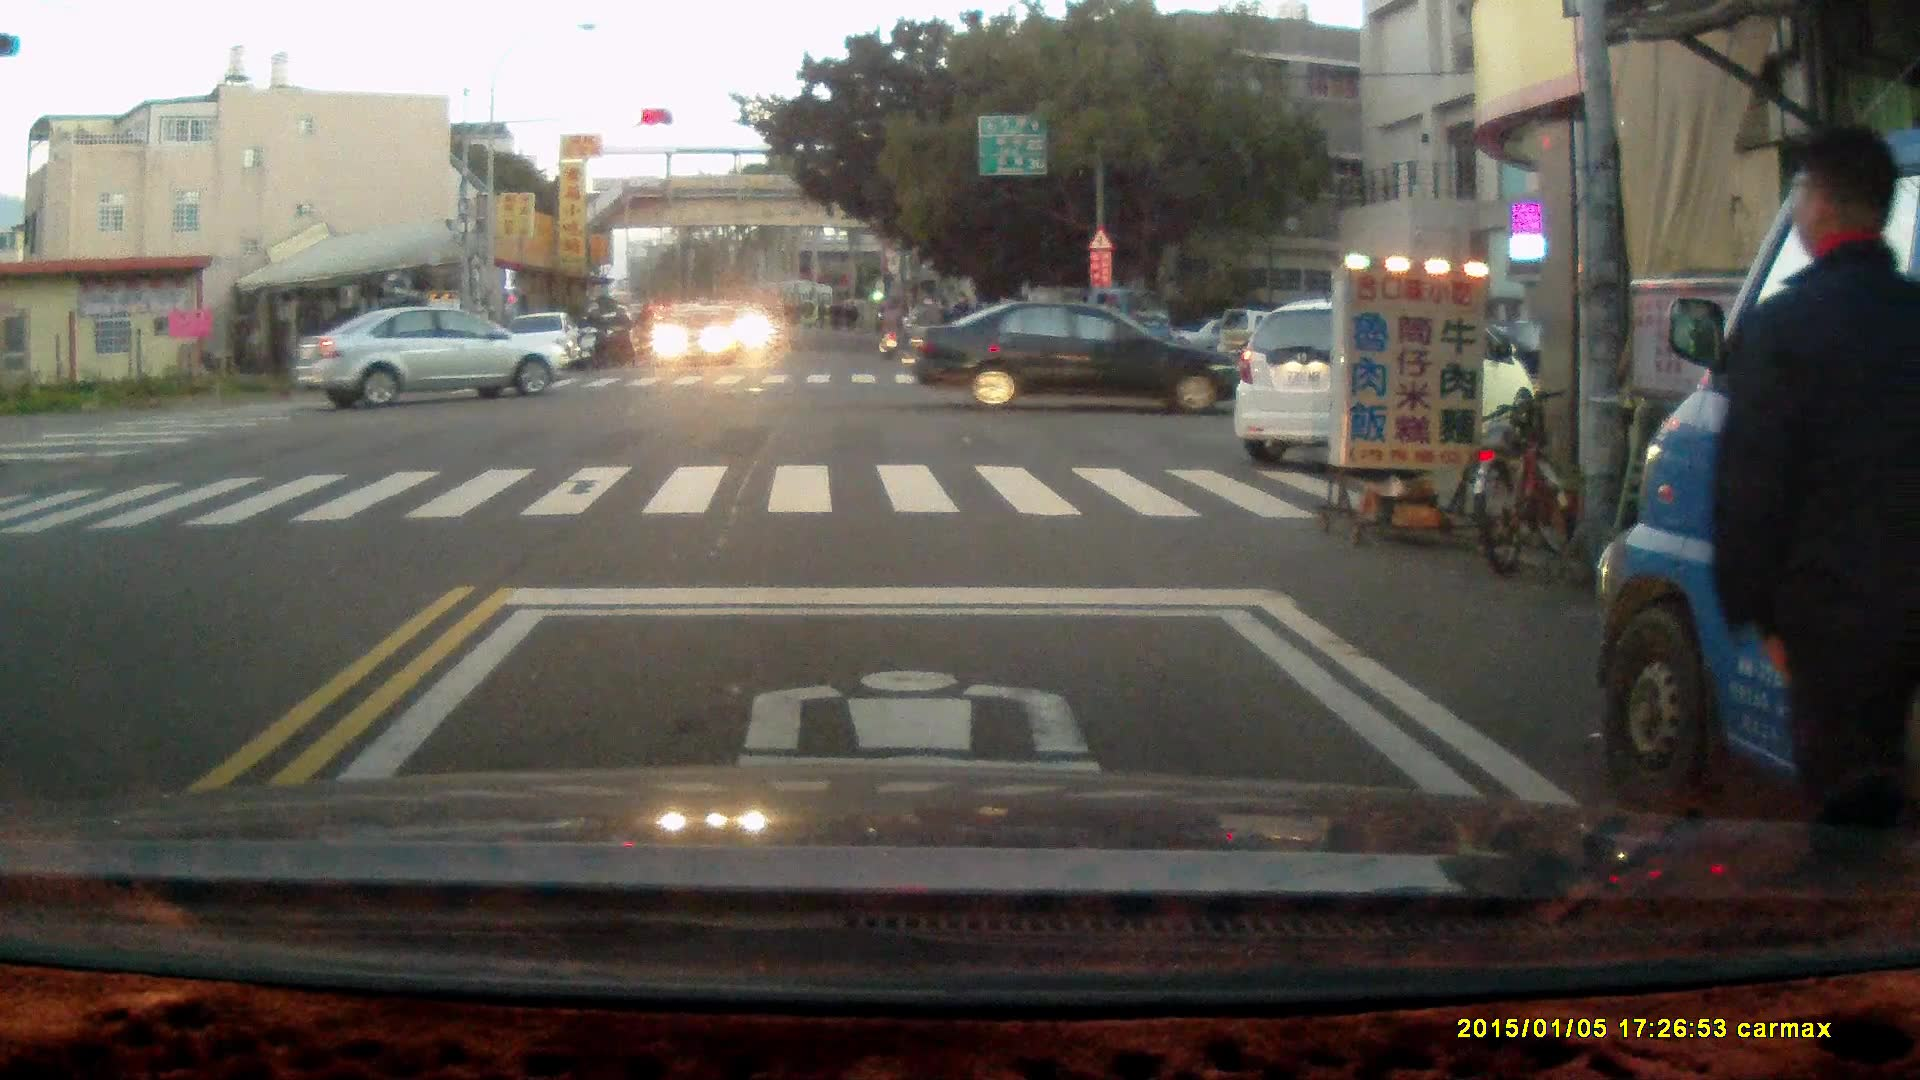pedestrian: (1703, 118, 1920, 822)
rider: (909, 296, 948, 363), (871, 294, 905, 360), (576, 301, 608, 367), (605, 302, 633, 365)
vehicle: (1598, 132, 1920, 844), (1233, 296, 1533, 459), (904, 298, 1237, 413), (296, 306, 570, 408), (1002, 284, 1179, 367)
